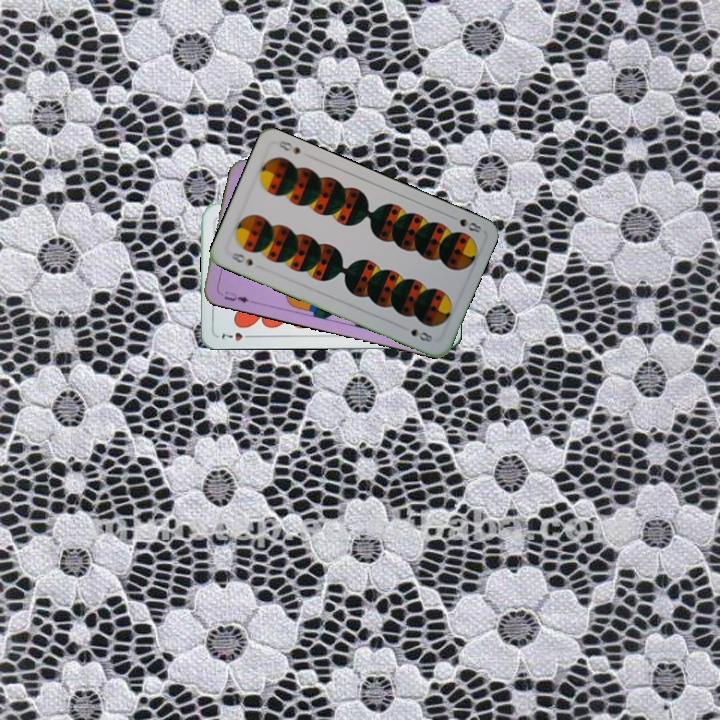EU: (215, 287, 255, 305)
H7: (218, 328, 256, 343)
S8: (445, 211, 484, 235), (224, 248, 256, 269)
